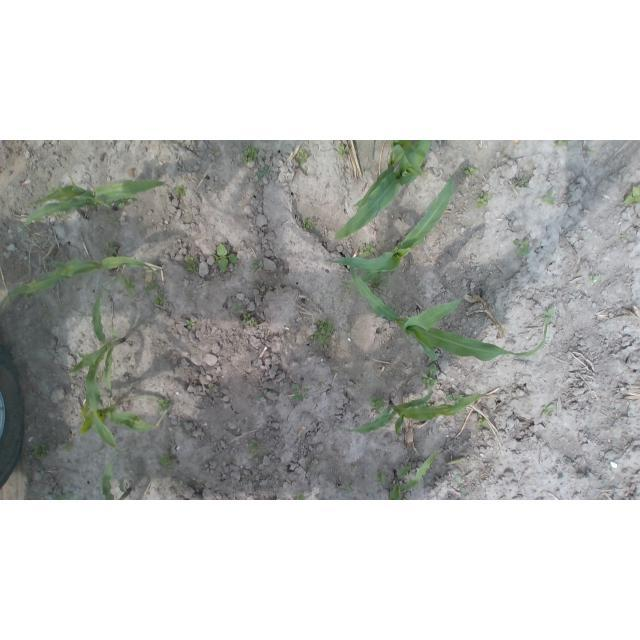Maize: (348, 266, 550, 360), (326, 179, 455, 275), (335, 141, 432, 242), (2, 256, 159, 314), (69, 294, 126, 448), (23, 179, 165, 227), (336, 389, 481, 433), (78, 399, 157, 435), (387, 452, 442, 499), (102, 464, 135, 501)
Weeds: (213, 243, 238, 270), (312, 320, 334, 346), (422, 364, 439, 389), (292, 383, 311, 401), (513, 240, 531, 257), (624, 186, 640, 205), (373, 396, 388, 413), (184, 257, 198, 274), (459, 166, 477, 179), (241, 149, 256, 163), (543, 188, 555, 205), (243, 313, 257, 327), (155, 397, 169, 411), (159, 452, 174, 465), (540, 404, 555, 417), (456, 474, 466, 493), (121, 277, 136, 289), (511, 177, 527, 188), (362, 241, 375, 254), (477, 192, 487, 208), (295, 151, 307, 164), (34, 444, 47, 456), (106, 244, 118, 257), (257, 164, 267, 179), (340, 144, 349, 160), (376, 469, 385, 484), (56, 493, 75, 500), (302, 219, 314, 230), (232, 302, 242, 315), (543, 310, 553, 323), (144, 281, 156, 291), (64, 444, 77, 453), (554, 141, 570, 148), (175, 187, 186, 197), (477, 416, 488, 426), (250, 442, 259, 454), (347, 482, 354, 493), (156, 296, 164, 305), (584, 146, 596, 152), (258, 390, 267, 397), (589, 275, 597, 282), (187, 320, 193, 329), (295, 496, 305, 501), (252, 263, 259, 269), (119, 202, 125, 209), (208, 383, 215, 388), (622, 232, 629, 236), (310, 462, 314, 467), (128, 199, 133, 203), (351, 465, 355, 468)
